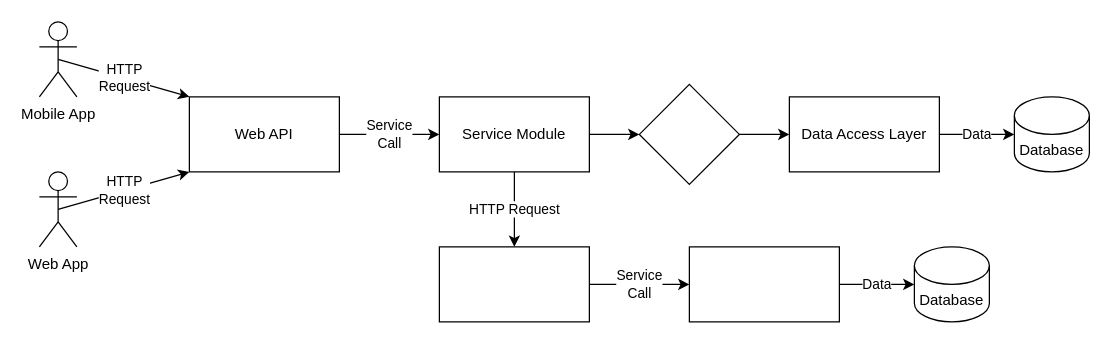
The diagram is 1111 pixels wide and 344 high, and some of its shapes have lost their labels. Each missing label, with the centre of its shape:
"Mapper" goes at point (688, 133).
"Python API" goes at point (513, 284).
"Python Services" goes at point (763, 284).
